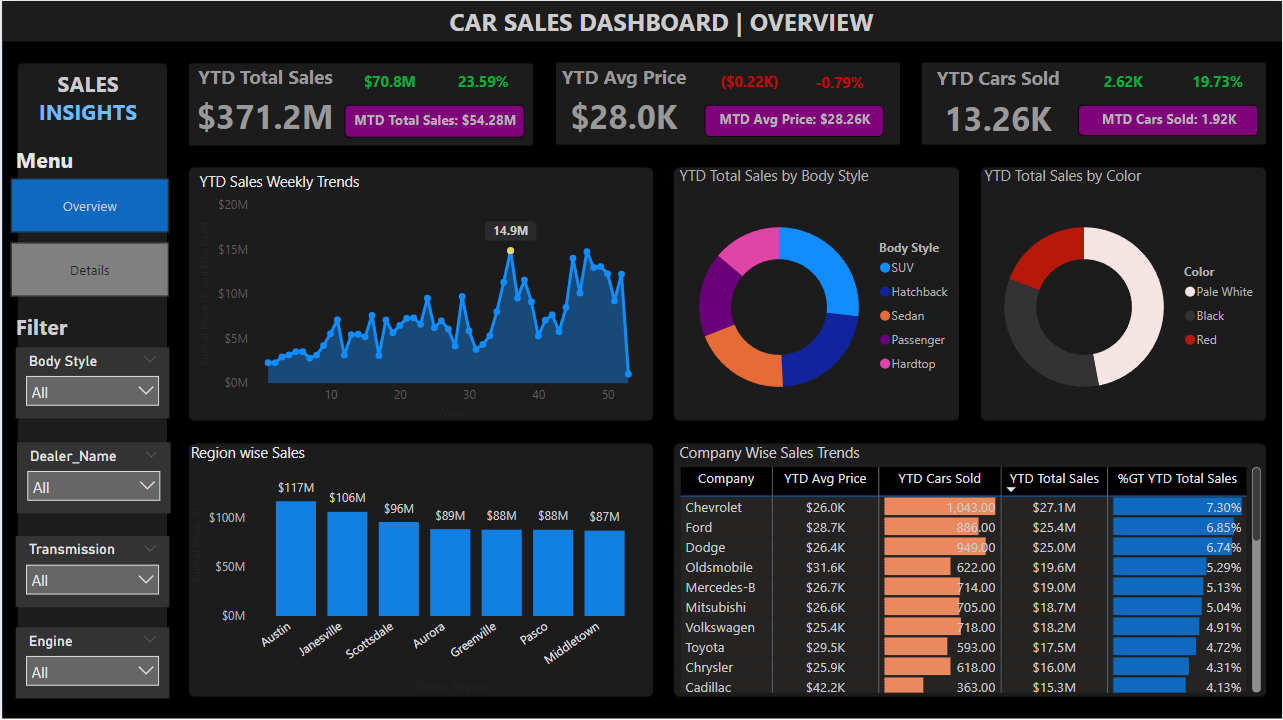

The page's visual inventory and layout, read from the dashboard file:
{"tool":"powerbi","page":{"name":"Overview","canvas":[1280,720],"ordinal":0},"visuals":[{"type":"card","title":"YTD Total Sales","fields":{"Values":["car_data.YTD Total Sales"]},"box":[183.4,62.7,159.3,82],"z":0},{"type":"card","fields":{"Values":["car_data.Sales Difference"]},"box":[342.6,62.7,90.5,41],"z":1000},{"type":"card","fields":{"Values":["car_data.YOY Sales Growth"]},"box":[433.1,62.7,97.7,41],"z":2000},{"type":"card","fields":{"Values":["car_data.MTD KPE"]},"box":[342.6,103.8,179.8,32.6],"z":3000},{"type":"card","title":"YTD Avg Price","fields":{"Values":["car_data.YTD Avg Price"]},"box":[543,63,159,82],"z":4000},{"type":"card","fields":{"Values":["car_data.Avg Price Diff"]},"box":[702,63,90,41],"z":5000},{"type":"card","fields":{"Values":["car_data.YOY Avg Price Growth"]},"box":[792,63,90,43],"z":6000},{"type":"card","fields":{"Values":["car_data.MTD Avg Price KPI"]},"box":[702,104,179,32],"z":7000},{"type":"card","title":"YTD Cars Sold","fields":{"Values":["car_data.YTD Cars Sold"]},"box":[916.2,63.8,160,82.5],"z":8000},{"type":"card","fields":{"Values":["car_data.Cars Sold Diff"]},"box":[1076.2,62.5,90,41.2],"z":9000},{"type":"card","fields":{"Values":["car_data.YOY Cars Sold Growth"]},"box":[1166.2,62.5,98.8,41.2],"z":10000},{"type":"donutChart","fields":{"Category":["car_data.Body Style"],"Y":["car_data.YTD Total Sales"]},"box":[672.5,163.8,287.5,265],"z":11000},{"type":"donutChart","fields":{"Y":["car_data.YTD Total Sales"],"Category":["car_data.Color"]},"box":[977.5,163.8,287.5,265],"z":12000},{"type":"tableEx","title":"Company Wise Sales Trends","fields":{"Values":["car_data.Company","car_data.YTD Avg Price","car_data.YTD Cars Sold","car_data.YTD Total Sales1","car_data.YTD Total Sales"]},"box":[672.9,441.4,591.4,255.7],"z":13000},{"type":"card","fields":{"Values":["car_data.MTD Cars Sold KPI"]},"box":[1075.7,104.3,180,31.4],"z":14000},{"type":"textbox","box":[442.8,0,472.9,55.5],"z":15000},{"type":"slicer","fields":{"Values":["car_data.Body Style"]},"box":[13.3,346.2,153.2,71.2],"z":16000},{"type":"slicer","fields":{"Values":["car_data.Transmission"]},"box":[13.3,534.5,153.2,71.2],"z":17000},{"type":"slicer","fields":{"Values":["car_data.Engine"]},"box":[13.3,626.1,153.2,71.2],"z":18000},{"type":"slicer","fields":{"Values":["car_data.Dealer_Name"]},"box":[14.5,441.6,153.2,71.2],"z":19000},{"type":"textbox","box":[8.4,306.4,153.2,39.8],"z":20000},{"type":"textbox","box":[8.4,138.7,143.6,38.6],"z":21000},{"type":"textbox","box":[13.3,62.7,144.8,67.6],"z":22000},{"type":"areaChart","title":"YTD Sales Weekly Trends","fields":{"Category":["Calendar Table.Week"],"Y":["Sum(car_data.Price ($))","car_data.Max Point"]},"box":[193,170.1,456,252.1],"z":23000},{"type":"pageNavigator","box":[8.4,177.3,158,119.4],"z":24000},{"type":"columnChart","title":"Region wise Sales","fields":{"Y":["Sum(car_data.Price ($))"],"Category":["car_data.Dealer_Region"]},"box":[183.4,441.6,465.7,255.8],"z":25000}]}

Visuals, with their boxes in screenshot pixels (x1, y1, x2, y2), scaled from the page's 1280x720 canvas onto the 1283x720 screenshot:
"YTD Total Sales" card: (left=184, top=63, right=344, bottom=145)
card - car_data.Sales Difference: (left=343, top=63, right=434, bottom=104)
card - car_data.YOY Sales Growth: (left=434, top=63, right=532, bottom=104)
card - car_data.MTD KPE: (left=343, top=104, right=524, bottom=136)
"YTD Avg Price" card: (left=544, top=63, right=704, bottom=145)
card - car_data.Avg Price Diff: (left=704, top=63, right=794, bottom=104)
card - car_data.YOY Avg Price Growth: (left=794, top=63, right=884, bottom=106)
card - car_data.MTD Avg Price KPI: (left=704, top=104, right=883, bottom=136)
"YTD Cars Sold" card: (left=918, top=64, right=1079, bottom=146)
card - car_data.Cars Sold Diff: (left=1079, top=62, right=1169, bottom=104)
card - car_data.YOY Cars Sold Growth: (left=1169, top=62, right=1268, bottom=104)
donutChart - car_data.Body Style x car_data.YTD Total Sales: (left=674, top=164, right=962, bottom=429)
donutChart - car_data.YTD Total Sales x car_data.Color: (left=980, top=164, right=1268, bottom=429)
"Company Wise Sales Trends" tableEx: (left=674, top=441, right=1267, bottom=697)
card - car_data.MTD Cars Sold KPI: (left=1078, top=104, right=1259, bottom=136)
textbox: (left=444, top=0, right=918, bottom=56)
slicer - car_data.Body Style: (left=13, top=346, right=167, bottom=417)
slicer - car_data.Transmission: (left=13, top=534, right=167, bottom=606)
slicer - car_data.Engine: (left=13, top=626, right=167, bottom=697)
slicer - car_data.Dealer_Name: (left=15, top=442, right=168, bottom=513)
textbox: (left=8, top=306, right=162, bottom=346)
textbox: (left=8, top=139, right=152, bottom=177)
textbox: (left=13, top=63, right=158, bottom=130)
"YTD Sales Weekly Trends" areaChart: (left=193, top=170, right=651, bottom=422)
pageNavigator: (left=8, top=177, right=167, bottom=297)
"Region wise Sales" columnChart: (left=184, top=442, right=651, bottom=697)
